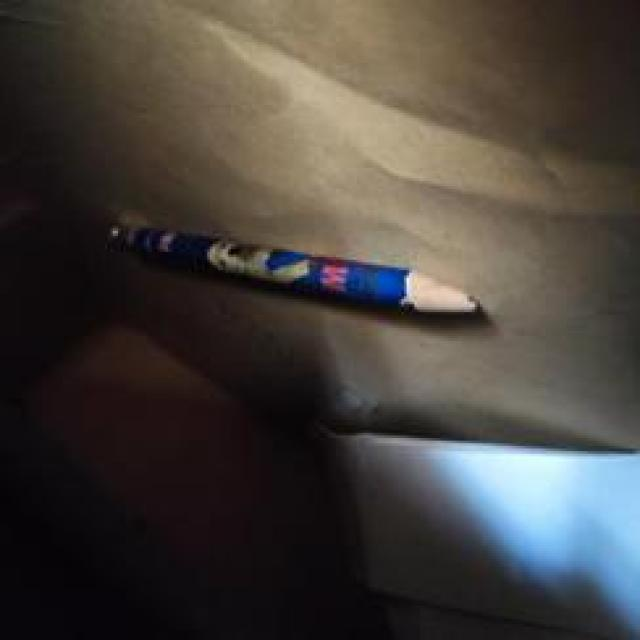pencil: (153, 211, 533, 336)
